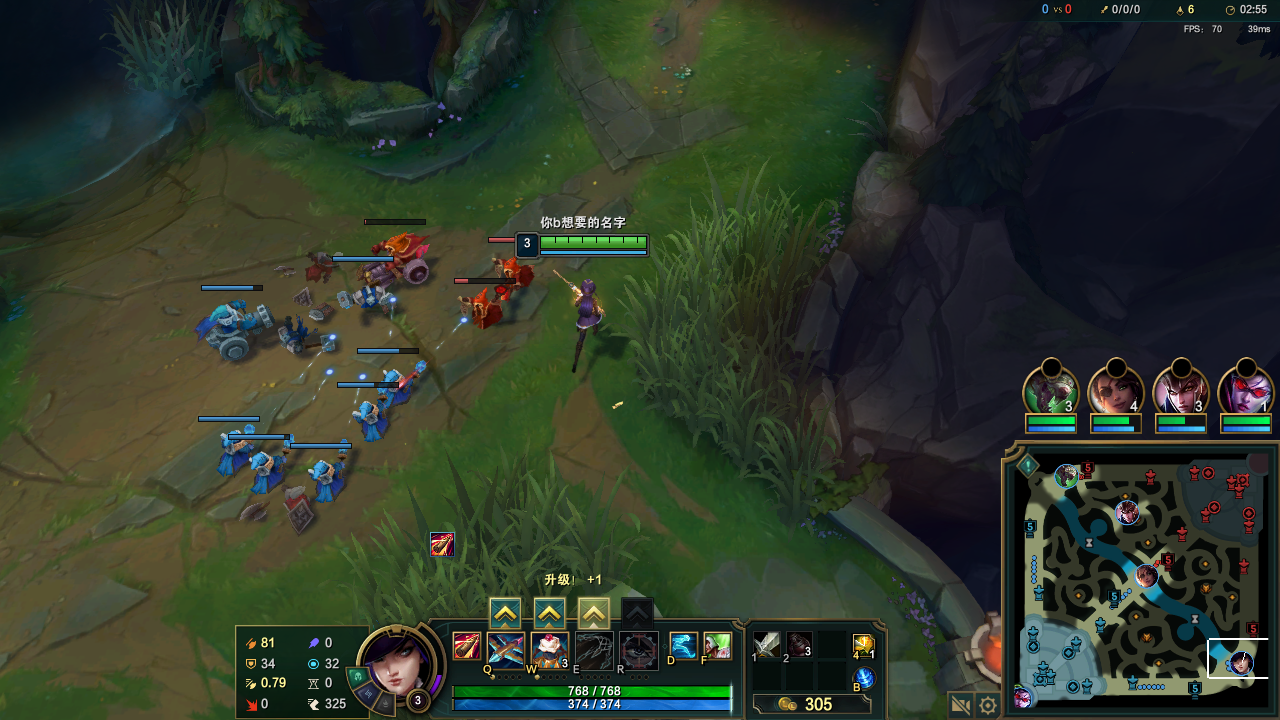DFXB: (366, 229, 428, 282), (489, 247, 534, 294), (458, 284, 503, 329)
Shenji: (537, 598, 567, 629), (495, 603, 515, 629)
Tuijianshengji: (584, 606, 607, 629)
WFXB: (203, 301, 274, 357), (376, 359, 426, 412), (310, 449, 355, 502), (251, 442, 293, 489), (338, 286, 394, 312), (216, 431, 247, 476), (351, 400, 385, 435)
Yita: (1187, 674, 1204, 697)
